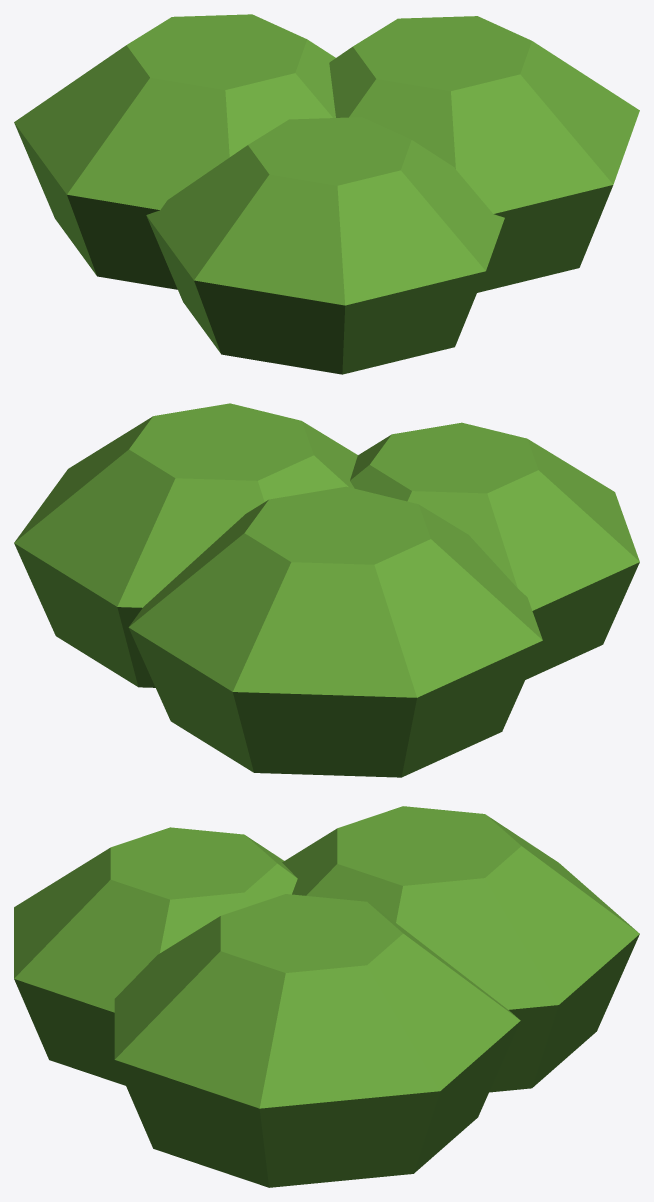
Rendered from D_MedBushLow.fbx.
3 renders of one model, top to bottom at view 1: azimuth 30°, elevation 25°; view 2: azimuth 150°, elevation 25°; view 3: azimuth 270°, elevation 25°, orthographic. The views are drawn at different scales.
Visible parts, largest first — view 1: M_BushLow; view 2: M_BushLow; view 3: M_BushLow.
Part boxes in pixels (x1=…): M_BushLow: x1=14, y1=14, x2=639, y2=374; M_BushLow: x1=14, y1=403, x2=639, y2=777; M_BushLow: x1=14, y1=806, x2=639, y2=1187.
Size of the model in its own units: 0.825 by 0.2715 by 0.8307.
Materials: 1 (1 with a texture image).
